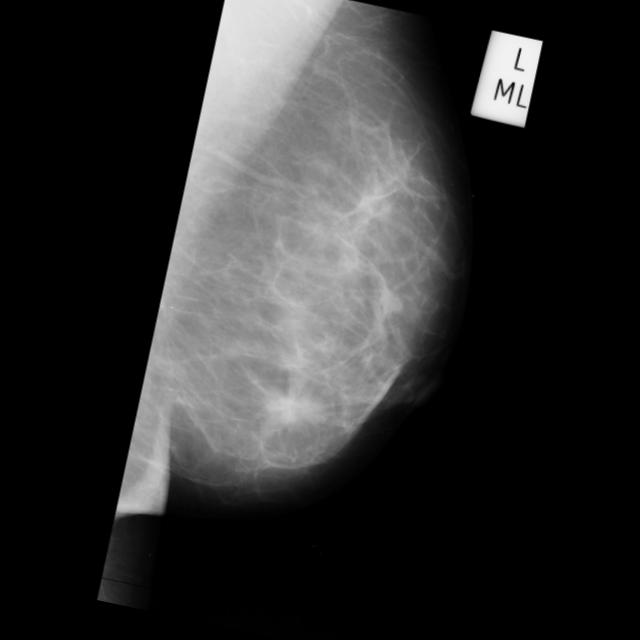SPIC: (322, 13, 634, 497)
